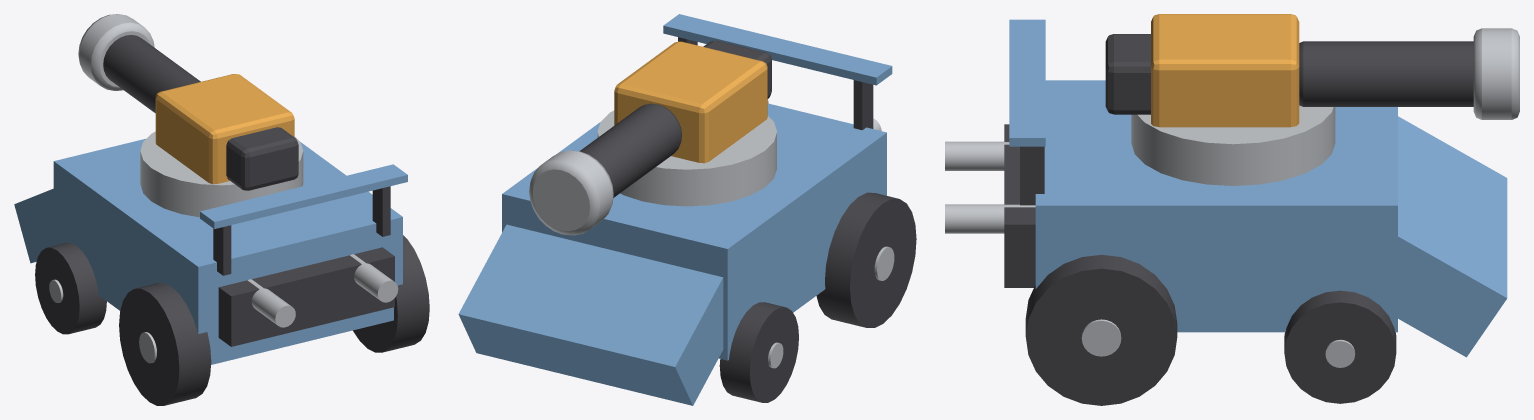
Rendered from robot_small_cannon_sprint.glb.
The picture shows the model from 3 angles, left to right: view 1: azimuth 30°, elevation 25°; view 2: azimuth 150°, elevation 25°; view 3: azimuth 270°, elevation 25°; orthographic projection. The views are drawn at different scales.
Parts seen in each view (by area): view 1: robot_small_cannon_sprint, robot_small_cannon_sprint_gun, robot_small_cannon_sprint_wheel0, robot_small_cannon_sprint_wheel1, robot_small_cannon_sprint_wheel2; view 2: robot_small_cannon_sprint, robot_small_cannon_sprint_gun, robot_small_cannon_sprint_wheel0, robot_small_cannon_sprint_wheel1; view 3: robot_small_cannon_sprint, robot_small_cannon_sprint_gun, robot_small_cannon_sprint_wheel2, robot_small_cannon_sprint_wheel3.
Boxes of the visible parts, <box> form: robot_small_cannon_sprint: <box>14,131,407,364</box>; robot_small_cannon_sprint_gun: <box>78,14,298,190</box>; robot_small_cannon_sprint_wheel0: <box>119,283,211,405</box>; robot_small_cannon_sprint_wheel1: <box>35,243,106,334</box>; robot_small_cannon_sprint_wheel2: <box>353,235,429,352</box>; robot_small_cannon_sprint: <box>458,14,892,405</box>; robot_small_cannon_sprint_gun: <box>529,40,771,235</box>; robot_small_cannon_sprint_wheel0: <box>816,192,916,327</box>; robot_small_cannon_sprint_wheel1: <box>719,302,798,402</box>; robot_small_cannon_sprint: <box>945,19,1507,357</box>; robot_small_cannon_sprint_gun: <box>1105,14,1519,127</box>; robot_small_cannon_sprint_wheel2: <box>1025,254,1177,405</box>; robot_small_cannon_sprint_wheel3: <box>1284,290,1396,403</box>.
Size of what is drawn, in the model's own units: 2.69 by 2.39 by 4.19.
